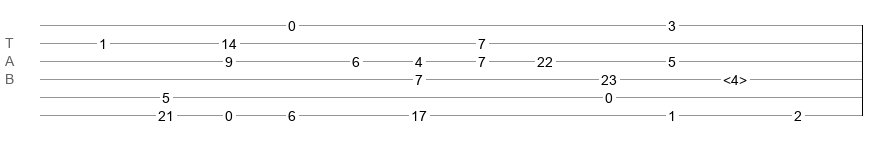0: (225, 108, 233, 118), (288, 18, 296, 28), (605, 90, 613, 100)
1: (99, 36, 107, 46), (668, 108, 676, 118)
14: (221, 36, 237, 46)
17: (411, 108, 427, 118)
2: (794, 108, 802, 118)
21: (158, 108, 174, 118)
22: (537, 54, 553, 64)
23: (601, 72, 617, 82)
3: (668, 18, 676, 28)
4: (415, 54, 423, 64)
5: (162, 90, 170, 100), (668, 54, 676, 64)
6: (288, 108, 296, 118), (352, 54, 360, 64)
7: (415, 72, 423, 82), (478, 54, 486, 64), (478, 36, 486, 46)
9: (225, 54, 233, 64)
harmonic: (723, 72, 747, 82)
